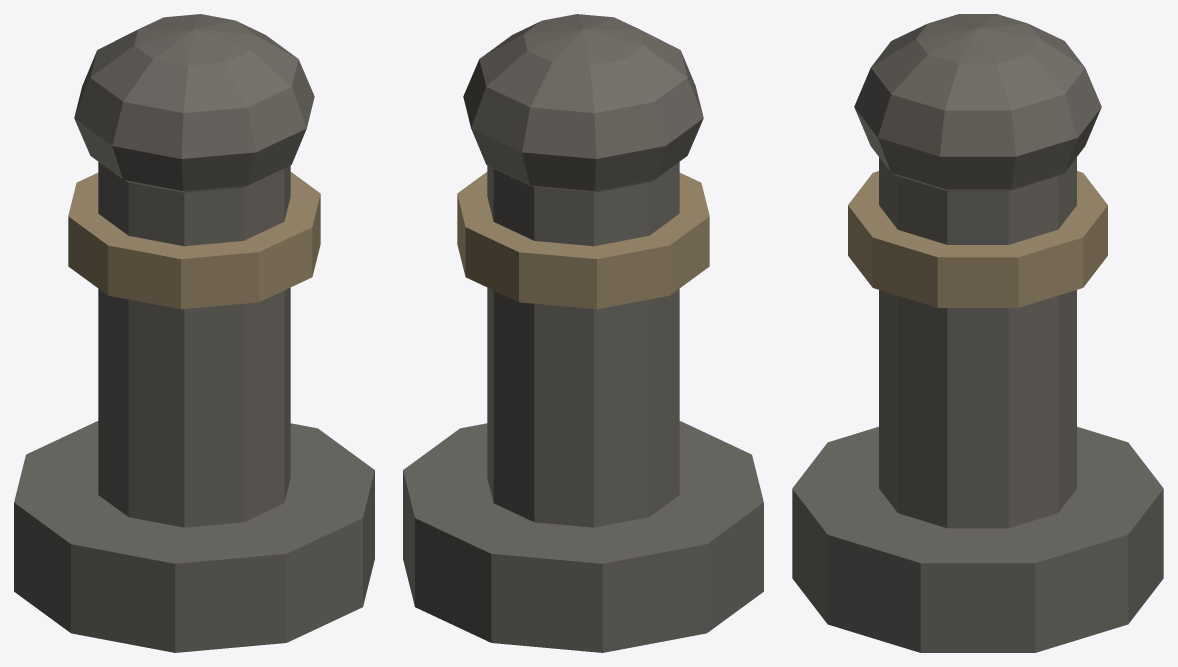
Rendered from P_Bollard.glb.
3 views of the same model, side by side, from view 1: azimuth 30°, elevation 25°; view 2: azimuth 150°, elevation 25°; view 3: azimuth 270°, elevation 25° (orthographic).
Parts seen in each view (by area): view 1: P_Bollard; view 2: P_Bollard; view 3: P_Bollard.
Part boxes in pixels (x1,y1,x2,y2): P_Bollard: (14,14,374,652); P_Bollard: (403,14,763,652); P_Bollard: (792,14,1163,652).
Size of the model in its own units: 0.5706 by 0.98 by 0.6.
